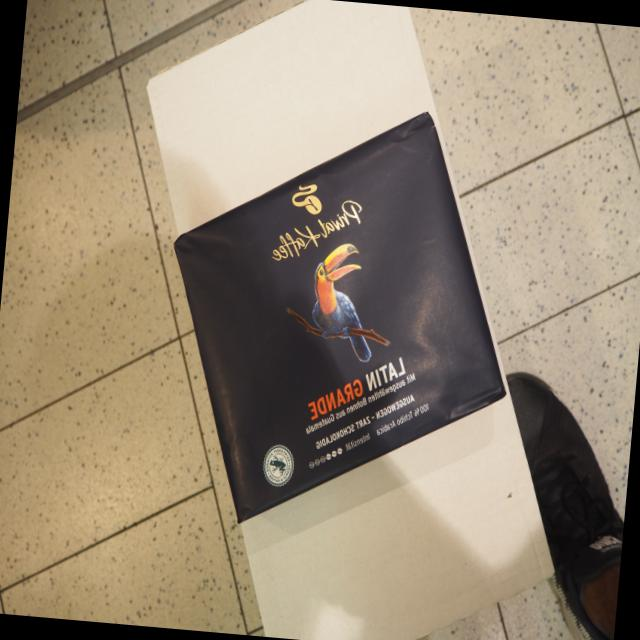LG Gemahlen: (165, 103, 510, 528)
